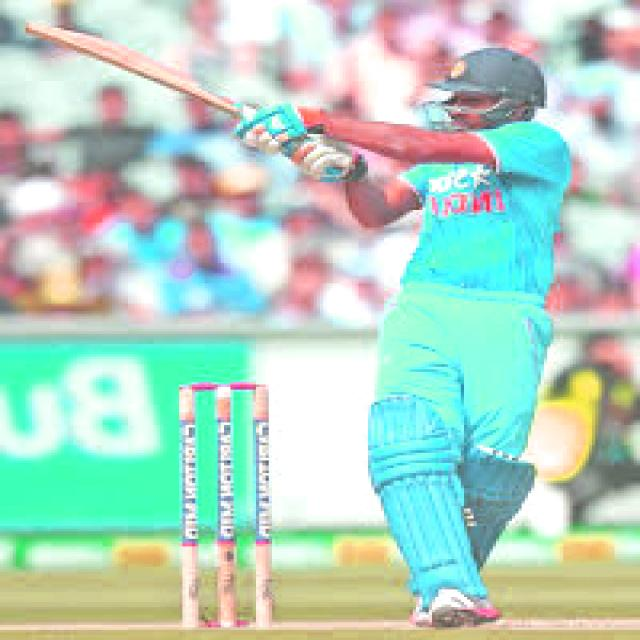toe: (22, 19, 50, 45)
